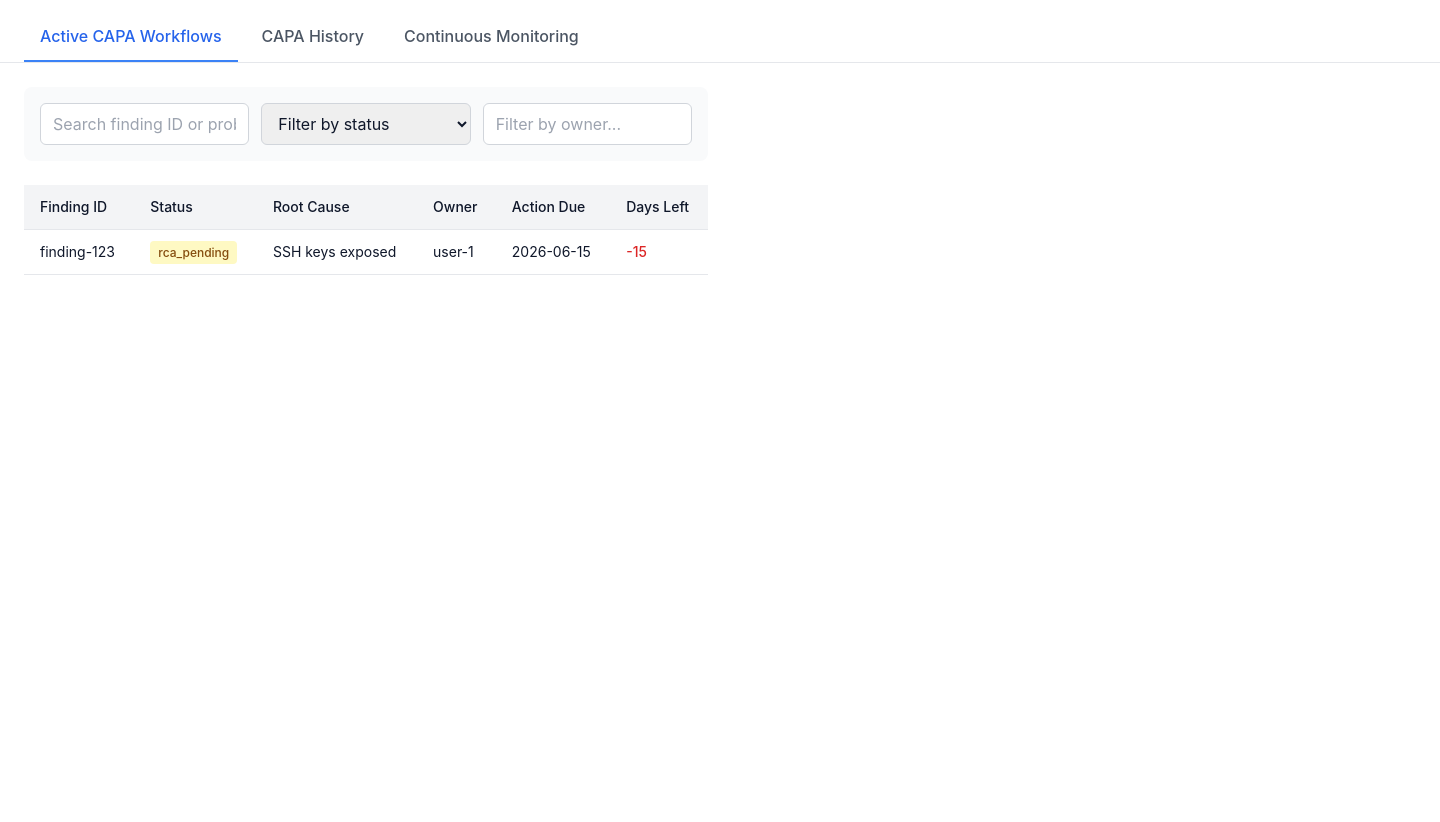
Test: CapaAndMonitoringTab › Active Tab › should allow selecting CAPA on Active tab
Click the text "finding-123" at [79, 252], box [24,230,134,274]
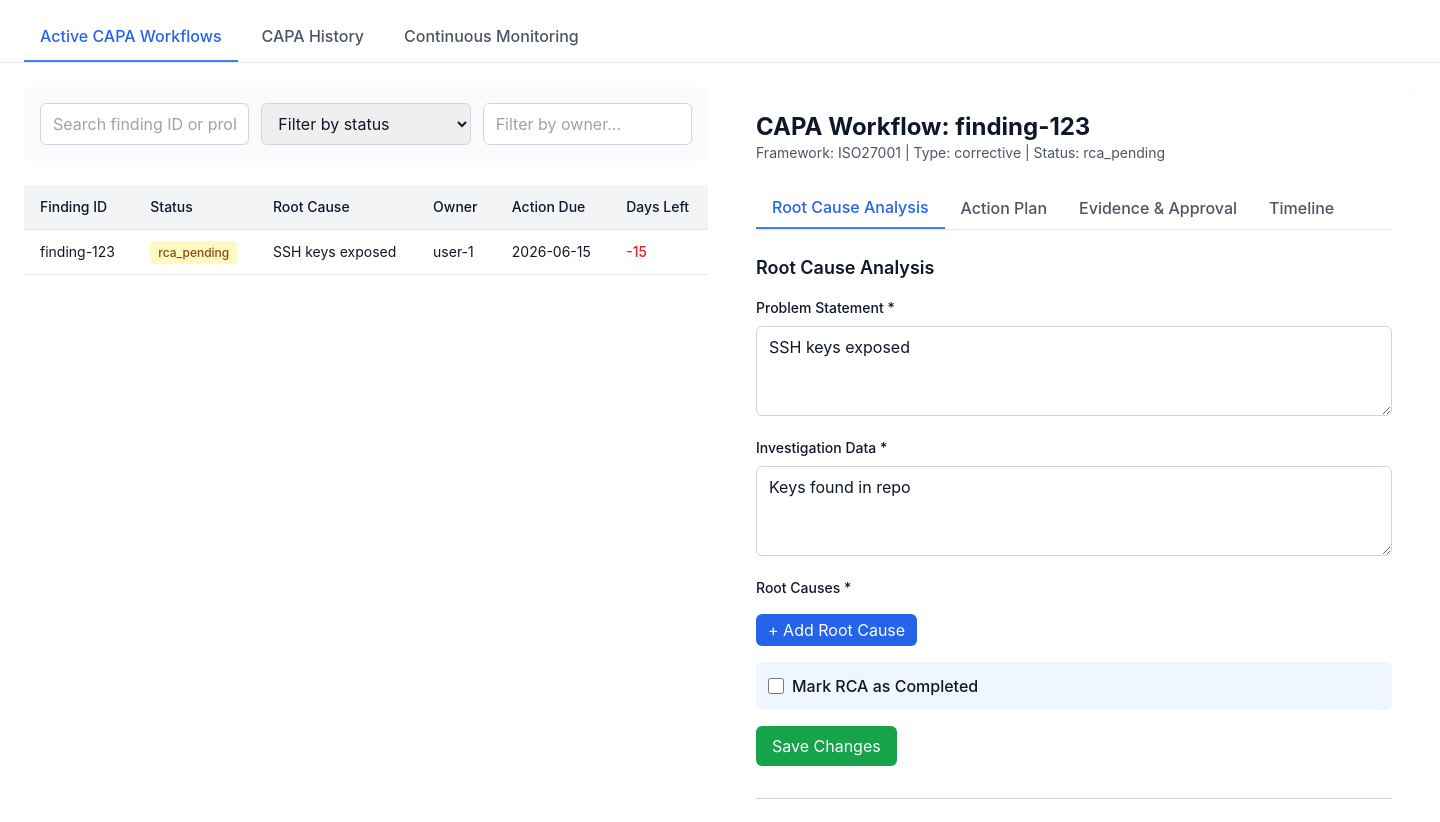
Expected: the heading "CAPA Workflow: finding-123" is shown, [756,112,1090,141]
